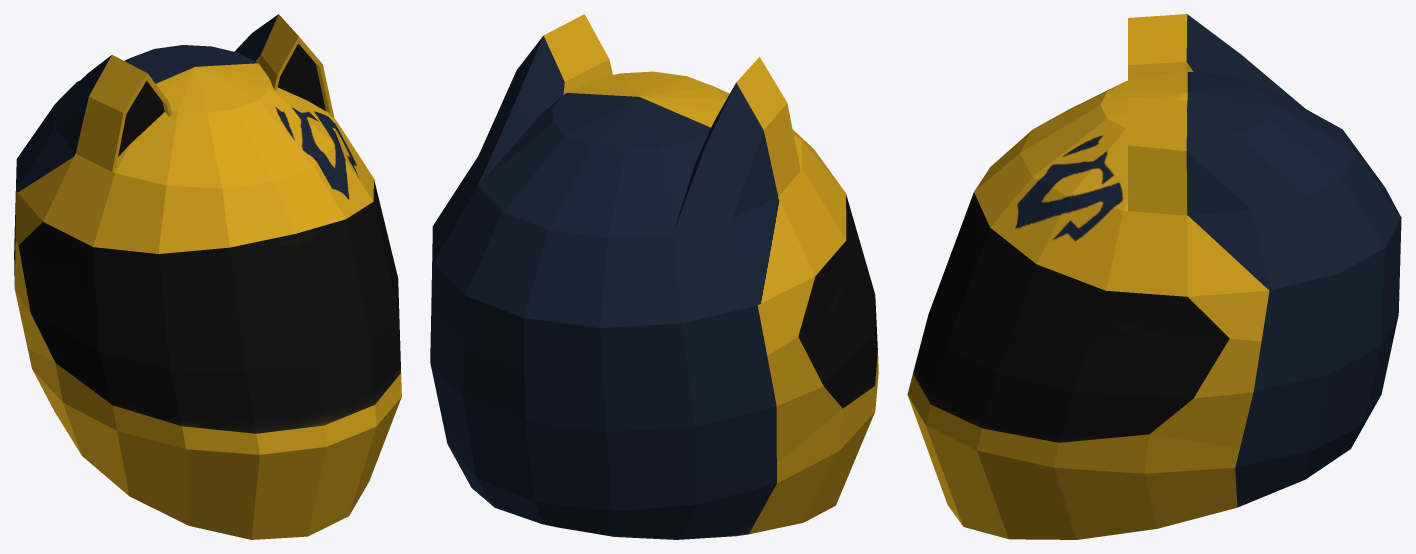
File: smash_helmet_01.glb
The picture shows the model from 3 angles, left to right: view 1: azimuth 30°, elevation 25°; view 2: azimuth 150°, elevation 25°; view 3: azimuth 270°, elevation 25°; orthographic projection. The views are drawn at different scales.
Parts seen in each view (by area): view 1: base_0, ears_1; view 2: base_0, ears_1; view 3: base_0, ears_1.
Boxes of the visible parts, left/top/right/bottom form: base_0: left=14, top=45, right=401, bottom=539; ears_1: left=55, top=14, right=334, bottom=171; base_0: left=430, top=71, right=878, bottom=539; ears_1: left=477, top=14, right=800, bottom=233; base_0: left=907, top=72, right=1401, bottom=539; ears_1: left=1128, top=14, right=1305, bottom=215.
Bounding box in the file's own units: 1.19 × 1.48 × 1.48.
Materials: 2 (1 with a texture image).
